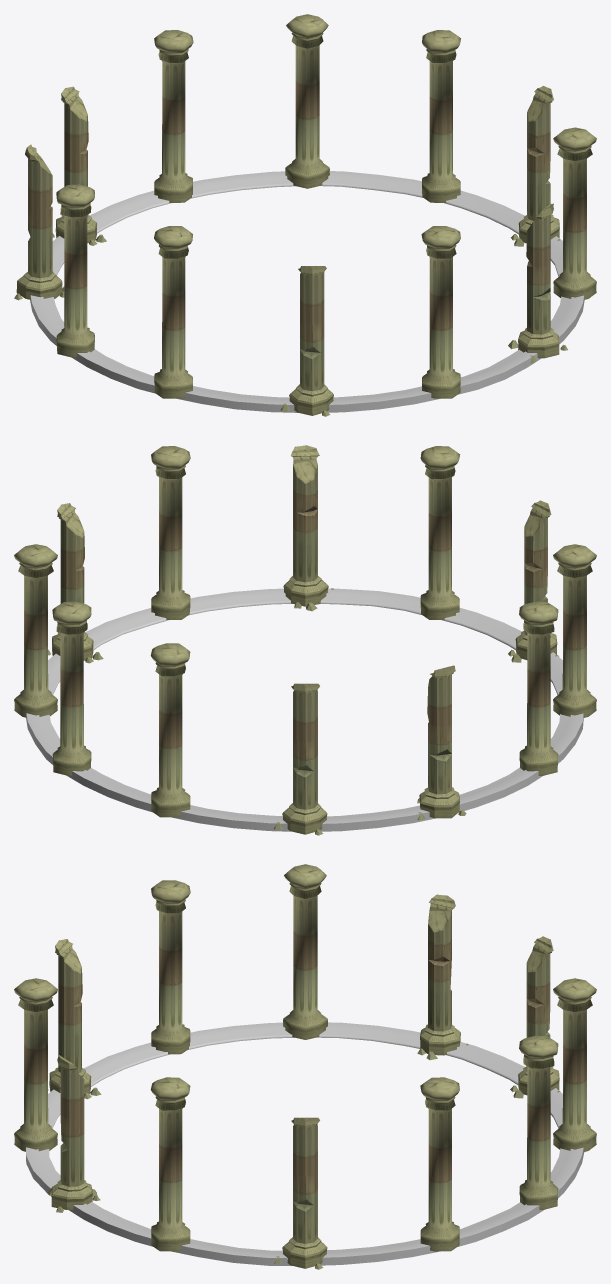
The model's file is arena (4).fbx.
3 views of the same model, one above another, from view 1: azimuth 30°, elevation 25°; view 2: azimuth 150°, elevation 25°; view 3: azimuth 270°, elevation 25° (orthographic).
Parts seen in each view (by area): view 1: Arena, Column.022, Column.015, Column.014, Column.013, Column.023, Column.016, Column.012, Column.019, Column.018, Column.017, Column.021 (+1 smaller); view 2: Arena, Column.016, Column.013, Column.023, Column.015, Column.014, Column.012, Column.022, Column.017, Column.020, Column.018, Column.021 (+1 smaller); view 3: Arena, Column.012, Column.014, Column.023, Column.016, Column.015, Column.013, Column.022, Column.018, Column.021, Column.017, Column.019 (+1 smaller).
Boxes of the visible parts, x1,y1,x2,y2 form: Arena: (30,171,584,412); Column.022: (285,14,329,188); Column.015: (553,127,596,299); Column.014: (421,226,460,398); Column.013: (154,226,192,398); Column.023: (154,30,193,202); Column.016: (422,30,460,202); Column.012: (56,184,94,357); Column.019: (280,266,333,416); Column.018: (14,144,64,300); Column.017: (508,203,567,363); Column.021: (511,86,559,246); Arena: (26,588,583,831); Column.016: (14,544,57,717); Column.013: (553,544,596,717); Column.023: (150,643,190,817); Column.015: (151,446,190,619); Column.014: (420,446,460,619); Column.012: (519,601,558,775); Column.022: (52,601,91,775); Column.017: (283,445,333,611); Column.020: (273,683,327,835); Column.018: (417,665,466,820); Column.021: (48,503,103,663); Arena: (26,1022,584,1265); Column.012: (283,864,327,1039); Column.014: (14,978,57,1151); Column.023: (553,978,596,1151); Column.016: (420,1077,459,1251); Column.015: (150,1077,190,1251); Column.013: (151,880,190,1054); Column.022: (519,1035,558,1209); Column.018: (417,894,468,1060); Column.021: (274,1117,327,1269); Column.017: (47,1055,100,1212); Column.019: (48,939,101,1099).
Size of the model in its own units: 2212 by 677 by 2196.
